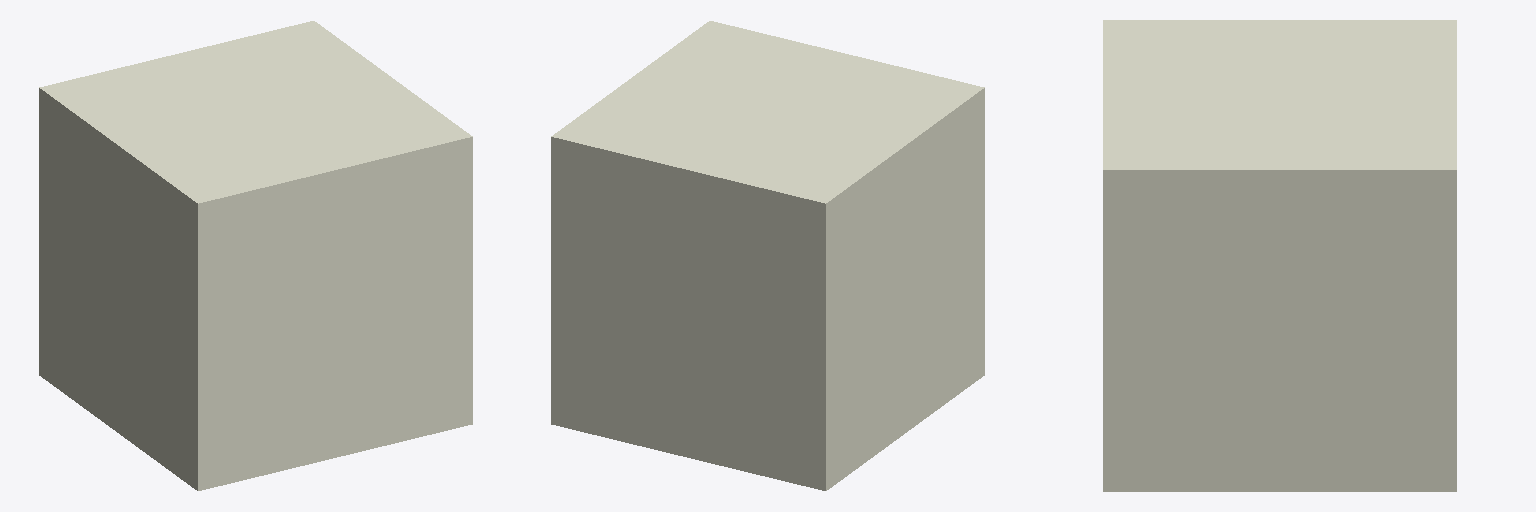
URDF robot description (sliding_block):
<?xml version="1.0"?>
<robot name = "sliding_block">
    <material name="silver">
        <color rgba="0.913725490196 0.913725490196 0.847058823529 1.0"/>
    </material>
    <link name = "xtrans"/>
    <link name = "ztrans"/>
    <link name = "box">
        <visual>
            <origin xyz = "0 0 0"/>
            <geometry>
                <box size="1 1 1"/>
            </geometry>
            <material name = "silver"/>
        </visual>
        <inertial>
            <origin xyz="0 0 0"/>
            <mass value="1"/>
            <inertia ixx="0.167" iyy="0.167" izz="0.167" ixy="0" ixz="0" iyz="0"/>
        </inertial>
        <!-- Put a single collision point at the bottom of the box-->
        <!--First collision point-->
        <collision>
            <origin xyz="0.0 0.0 -0.5"/>
            <geometry>
                <sphere radius="0"/>
            </geometry>
        </collision>
    </link>
    <!--Add joints between the dummy frames to model the brick-->
    <joint name="xslide" type="prismatic">
        <parent link="xtrans"/>
        <child link="ztrans"/>
        <origin rpy="0 0 0" xyz="0 0 0"/>
        <axis xyz="1 0 0"/>
    </joint>
    <joint name="zslide" type="prismatic">
        <parent link="ztrans"/>
        <child link="box"/>
        <origin rpy="0 0 0" xyz="0 0 0"/>
        <axis xyz="0 0 1"/>
    </joint>
    <!--Actuate the x-translation joint-->
    <transmission name = "xslide_transmission">
        <type>transmission_interface/SimpleTransmission</type>
        <joint name="xslide"/>
        <actuator name="xslide_actuator">
            <mechanicalReduction>1</mechanicalReduction>
        </actuator>
    </transmission>
</robot>

--- Render facts (derived) ---
The picture shows the robot from 3 angles, left to right: view 1: azimuth 30°, elevation 25°; view 2: azimuth 150°, elevation 25°; view 3: azimuth 270°, elevation 25°; orthographic projection.
Robot: sliding_block — 3 links, 2 joints (2 prismatic); root link xtrans; default pose: all joints at 0.
Visible links, largest first — view 1: box; view 2: box; view 3: box.
Link boxes in pixels (x1,y1,x2,y2): box: (39, 21, 472, 490); box: (551, 21, 984, 490); box: (1103, 20, 1456, 491).
Bounding box of the posed robot: 1 × 1 × 1 m (x, y, z).
Geometry: primitives only (box / cylinder / sphere), no mesh files.